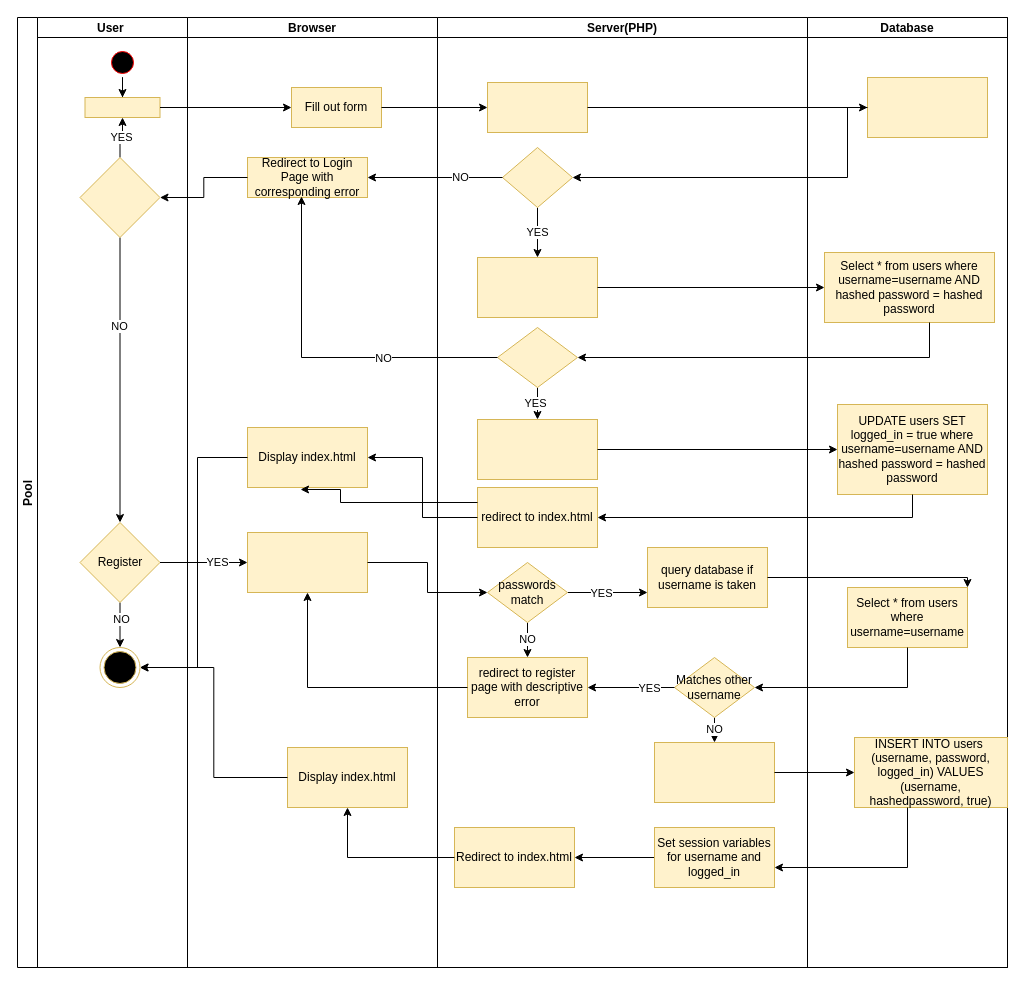
This 1025x985 diagram has some shape labels left out. Here are the shapes that lost their labels. From the top down, the centre of each, then its label:
At point 122,107: "User Log in".
At point 537,107: "query database for matching usernames".
At point 927,107: "Select * from users where username = username".
At point 119,197: "Log in".
At point 537,177: "Username Match?".
At point 537,287: "query database for matching hashed passwords".
At point 537,357: "Password match".
At point 537,449: "Login the user; set session variables".
At point 307,562: "Fill out register form".
At point 714,772: "create user with username and password".
